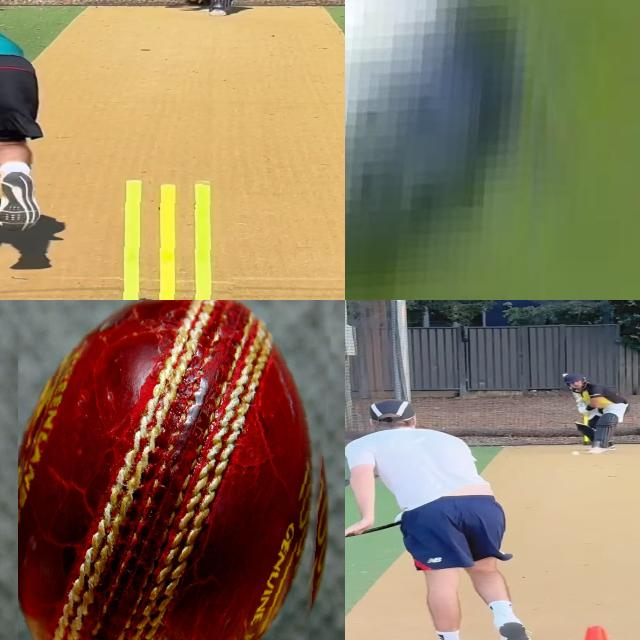Cricket ball: (17, 300, 336, 640), (345, 0, 555, 300), (570, 449, 582, 457)
Stumps: (108, 178, 235, 300)
